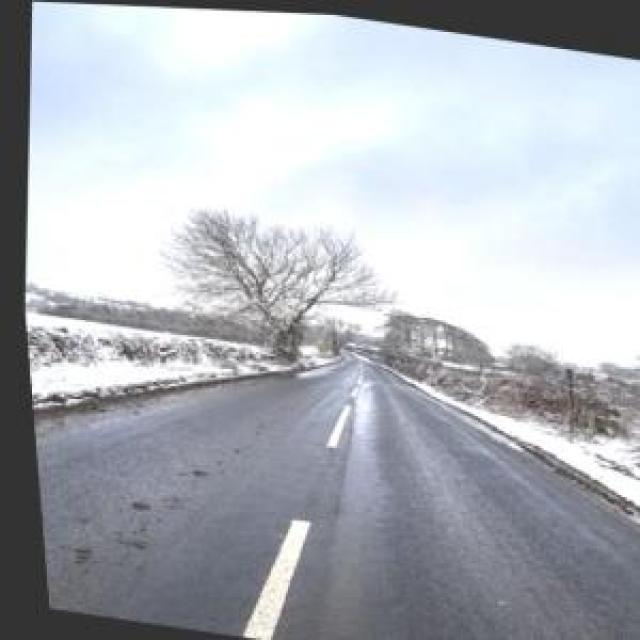clear-road: (27, 377, 640, 640)
